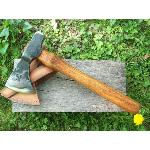Kapak: (2, 30, 146, 116)
